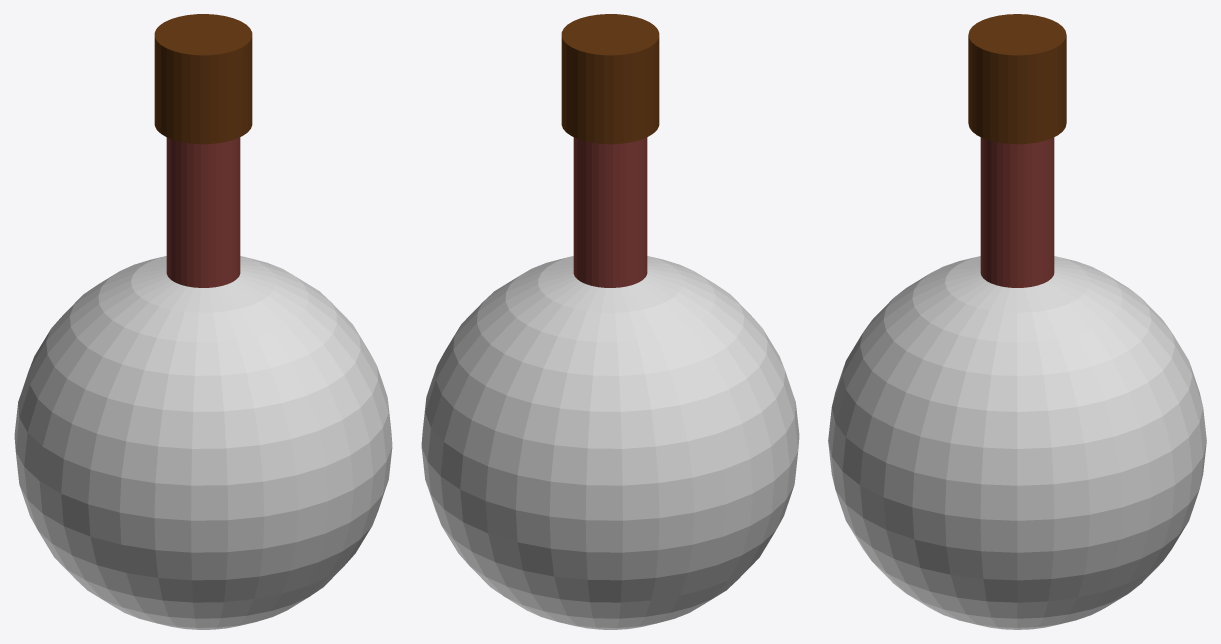
Rendered from potion1.fbx.
3 views of the same model, side by side, from view 1: azimuth 30°, elevation 25°; view 2: azimuth 150°, elevation 25°; view 3: azimuth 270°, elevation 25° (orthographic).
Parts seen in each view (by area): view 1: Sphere; view 2: Sphere; view 3: Sphere.
Boxes of the visible parts, x1,y1,x2,y2 form: Sphere: (14,14,392,629); Sphere: (421,14,799,629); Sphere: (828,14,1206,629).
Size of the model in its own units: 200 by 337 by 200.
